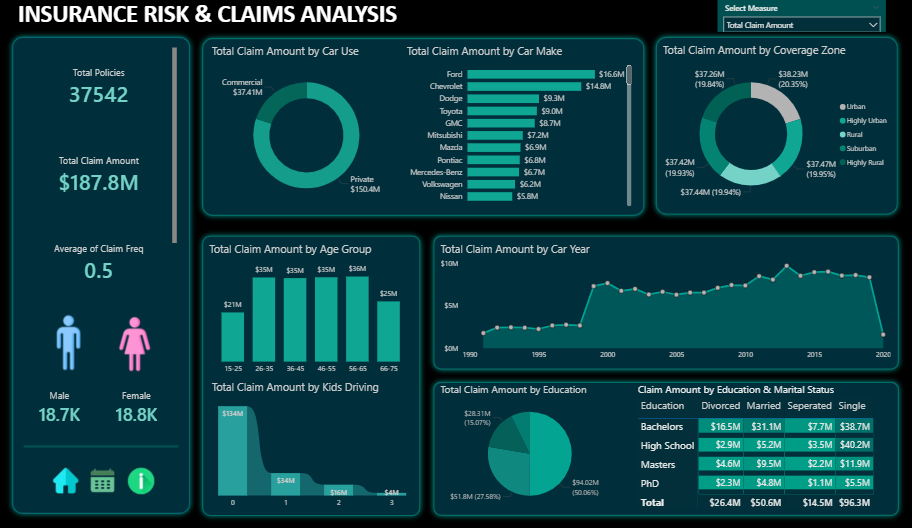

What the dashboard file says about the page in this screenshot:
{"tool":"powerbi","page":{"name":"Page 1","canvas":[1600,950],"ordinal":0},"visuals":[{"type":"textbox","box":[35,0,710,62.1],"z":0},{"type":"shape","box":[20.6,61.7,330,850],"z":1000},{"type":"cardVisual","fields":{"Data":["insurance_data_car.Total Policies","insurance_data_car.Total Claim Amount","Avg(insurance_data_car.Claim Freq)","insurance_data_car.Avg Claim Amount"]},"box":[51.5,85.8,269.3,459.7],"z":2000},{"type":"cardVisual","fields":{"Data":["insurance_data_car.Male Count","insurance_data_car.Female Count"]},"box":[50.9,660.6,259.5,109.8],"z":3000},{"type":"image","box":[71.6,546,114.6,114.6],"z":4000},{"type":"image","box":[186.2,546,114.6,114.6],"z":5000},{"type":"slicer","fields":{"Values":["Select Measure.Select Measure"]},"box":[1257.5,6.4,292.9,55.7],"z":6000},{"type":"shape","box":[350.2,62.1,789.5,329.5],"z":7000},{"type":"donutChart","fields":{"Y":["insurance_data_car.Total Claim Amount"],"Category":["insurance_data_car.Car Use"]},"box":[371.7,81.7,340,295],"z":8000},{"type":"clusteredBarChart","fields":{"Y":["insurance_data_car.Total Claim Amount"],"Category":["insurance_data_car.Car Make"]},"box":[711.8,82.3,401.4,288.2],"z":9000},{"type":"shape","box":[1139.8,60.5,440.9,329.5],"z":10000},{"type":"donutChart","fields":{"Y":["insurance_data_car.Total Claim Amount"],"Category":["insurance_data_car.Coverage Zone"]},"box":[1155.7,81.2,409.1,294.5],"z":11000},{"type":"shape","box":[350,406.7,400,508],"z":12000},{"type":"clusteredColumnChart","fields":{"Y":["insurance_data_car.Total Claim Amount"],"Category":["insurance_data_car.Age Group"]},"box":[366.7,426.7,365,240],"z":13000},{"type":"ribbonChart","fields":{"Y":["insurance_data_car.Total Claim Amount"],"Category":["insurance_data_car.Kids Driving"]},"box":[371.7,666.7,360,231.7],"z":14000},{"type":"shape","box":[751.7,406.7,830,253.3],"z":15000},{"type":"areaChart","fields":{"Y":["insurance_data_car.Total Claim Amount"],"Category":["insurance_data_car.Car Year"]},"box":[770,426.7,793.3,216.7],"z":16000},{"type":"shape","box":[751.7,660,830,253.3],"z":17000},{"type":"pieChart","fields":{"Y":["insurance_data_car.Total Claim Amount"],"Category":["insurance_data_car.Education"]},"box":[770,671.7,321.7,226.7],"z":18000},{"type":"pivotTable","title":"Claim Amount by Education & Marital Status","fields":{"Rows":["insurance_data_car.Education"],"Columns":["insurance_data_car.Marital Status"],"Values":["insurance_data_car.Total Claim Amount"]},"box":[1113.3,671.7,450,226.7],"z":19000},{"type":"shape","box":[50.9,757.7,269,49.3],"z":20000},{"type":"image","box":[71.6,807.1,230.8,73.2],"z":21000}]}

Visuals, with their boxes in screenshot pixels (x1, y1, x2, y2), scaled from the page's 1600x950 canvas onto the 912x528 screenshot:
textbox: 20/0/425/35
shape: 12/34/200/507
cardVisual - insurance_data_car.Total Policies x insurance_data_car.Total Claim Amount: 29/48/183/303
cardVisual - insurance_data_car.Male Count x insurance_data_car.Female Count: 29/367/177/428
image: 41/303/106/367
image: 106/303/171/367
slicer - Select Measure.Select Measure: 717/4/884/35
shape: 200/35/650/218
donutChart - insurance_data_car.Total Claim Amount x insurance_data_car.Car Use: 212/45/406/209
clusteredBarChart - insurance_data_car.Total Claim Amount x insurance_data_car.Car Make: 406/46/635/206
shape: 650/34/901/217
donutChart - insurance_data_car.Total Claim Amount x insurance_data_car.Coverage Zone: 659/45/892/209
shape: 199/226/427/508
clusteredColumnChart - insurance_data_car.Total Claim Amount x insurance_data_car.Age Group: 209/237/417/371
ribbonChart - insurance_data_car.Total Claim Amount x insurance_data_car.Kids Driving: 212/371/417/499
shape: 428/226/902/367
areaChart - insurance_data_car.Total Claim Amount x insurance_data_car.Car Year: 439/237/891/358
shape: 428/367/902/508
pieChart - insurance_data_car.Total Claim Amount x insurance_data_car.Education: 439/373/622/499
"Claim Amount by Education & Marital Status" pivotTable: 635/373/891/499
shape: 29/421/182/449
image: 41/449/172/489
